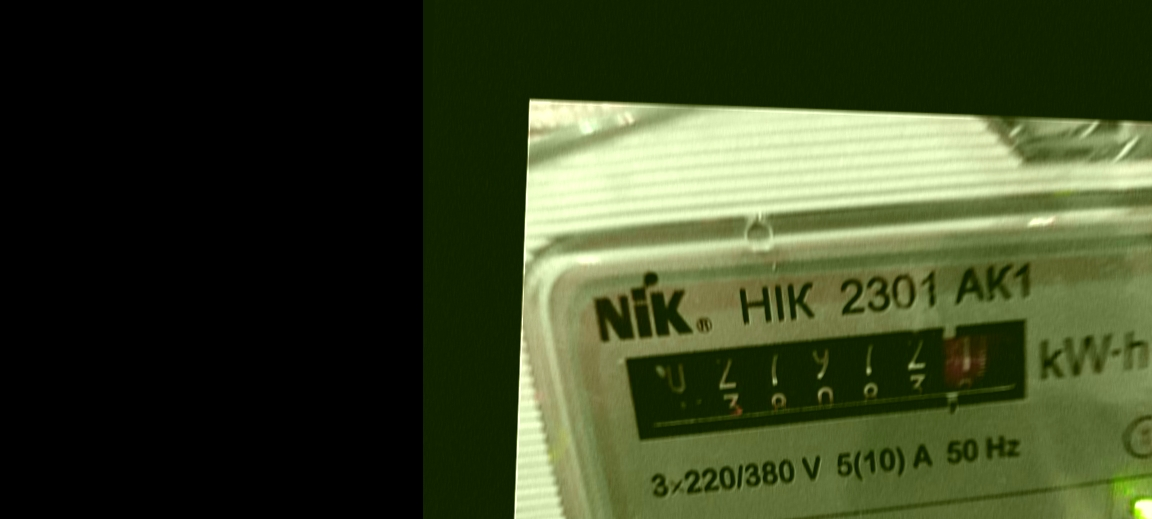0: (660, 357, 690, 394)
1: (954, 331, 978, 375)
2: (709, 350, 740, 390), (900, 333, 930, 371)
7: (853, 336, 880, 378), (760, 349, 784, 387)
9: (807, 344, 834, 380)
screen: (604, 294, 1062, 465)
